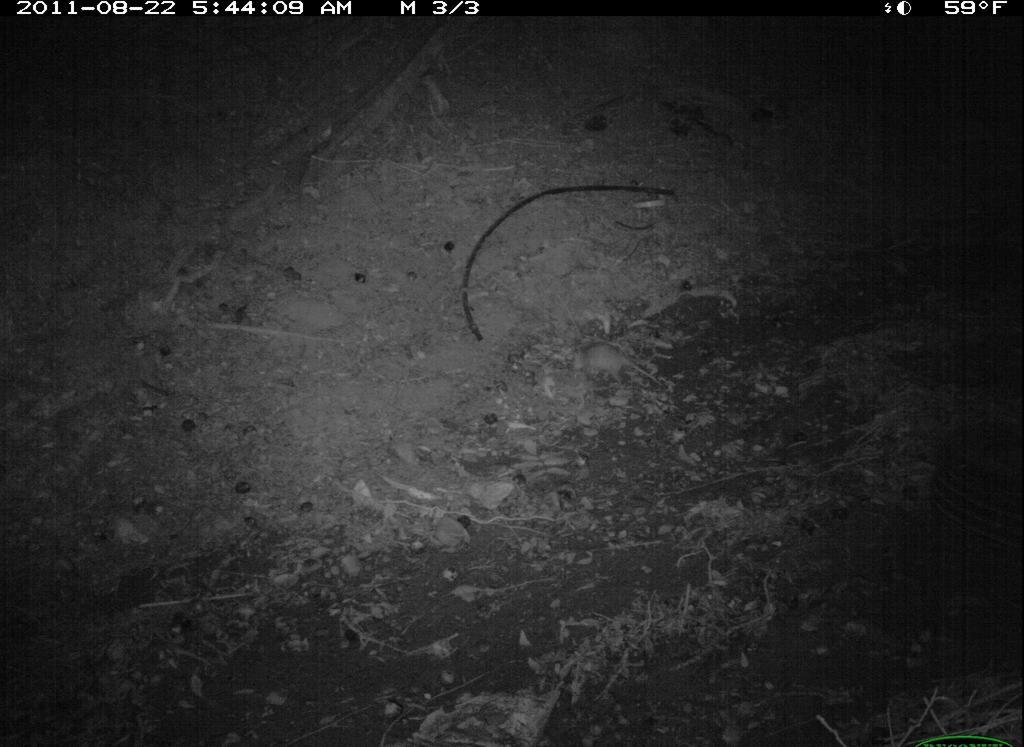opossum: (565, 340, 669, 395)
